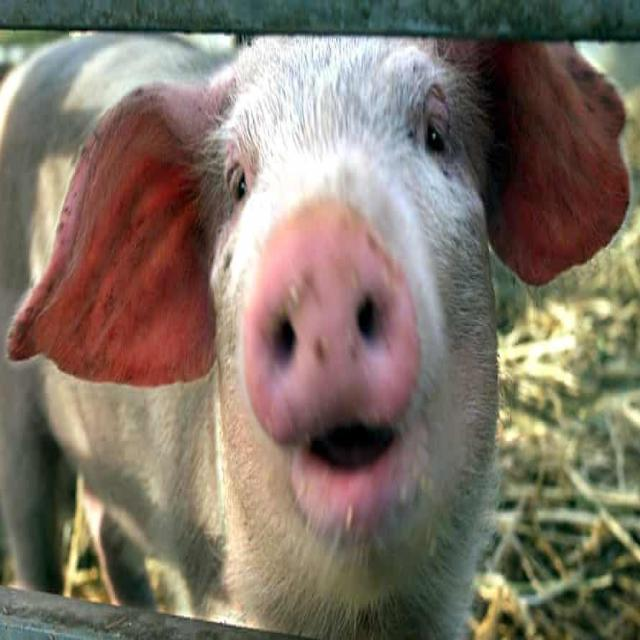Pig: (2, 32, 630, 634)
